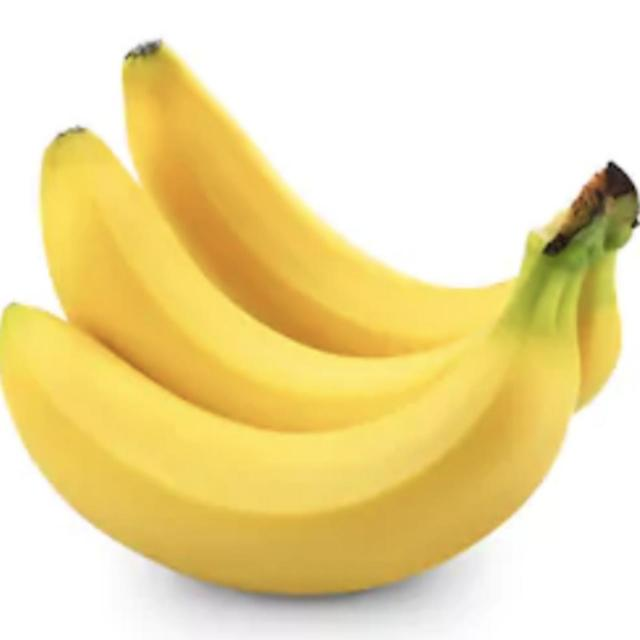banana: (0, 230, 620, 603)
